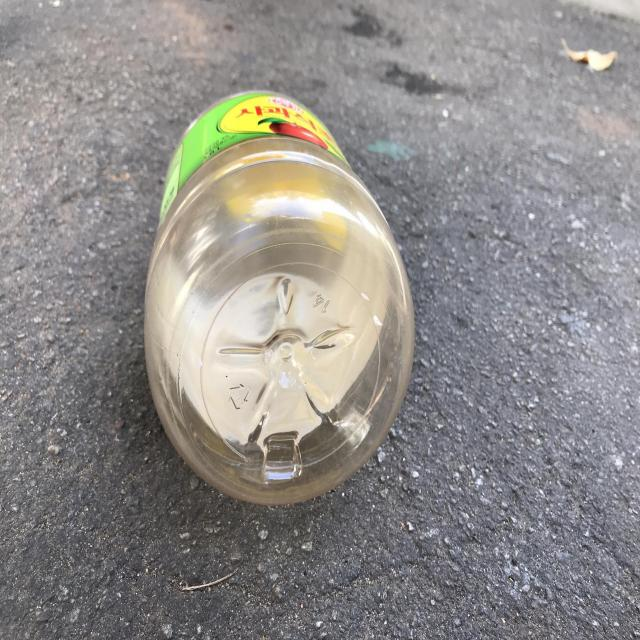plastic: (144, 91, 414, 505)
